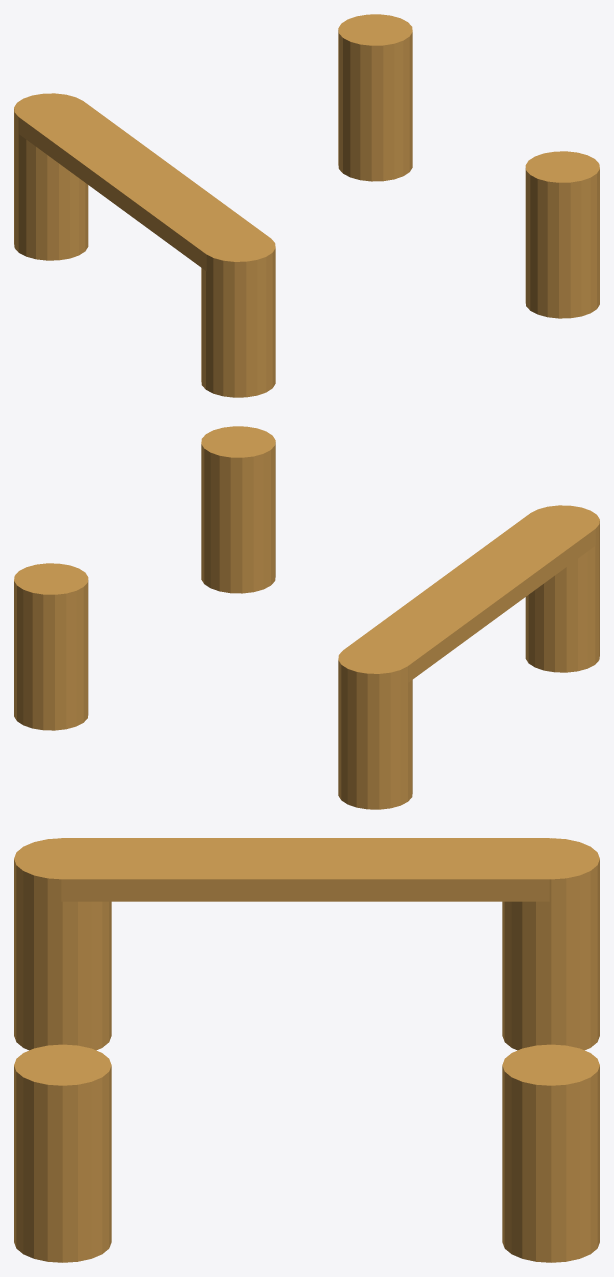
File: test-unified.glb
The picture shows the model from 3 angles, top to bottom: view 1: azimuth 30°, elevation 25°; view 2: azimuth 150°, elevation 25°; view 3: azimuth 270°, elevation 25°; orthographic projection. The views are drawn at different scales.
Parts seen in each view (by area): view 1: Mesh_Mesh_head_geo.001_lambert2SG.001; view 2: Mesh_Mesh_head_geo.001_lambert2SG.001; view 3: Mesh_Mesh_head_geo.001_lambert2SG.001.
Part boxes in pixels (bbox=[...]): Mesh_Mesh_head_geo.001_lambert2SG.001: bbox=[14, 14, 599, 397]; Mesh_Mesh_head_geo.001_lambert2SG.001: bbox=[14, 426, 599, 809]; Mesh_Mesh_head_geo.001_lambert2SG.001: bbox=[14, 838, 599, 1262].
Bounding box in the file's own units: 120 × 40 × 120.
